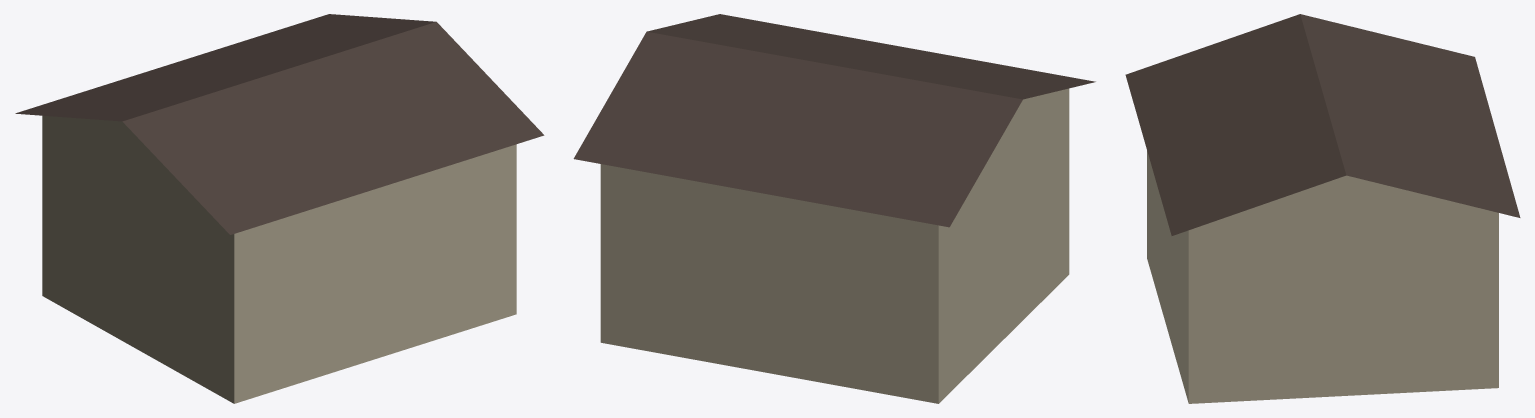
3 renders of one model, left to right at view 1: azimuth 30°, elevation 25°; view 2: azimuth 150°, elevation 25°; view 3: azimuth 270°, elevation 25°, orthographic. The views are drawn at different scales.
Visible parts, largest first — view 1: buildings; view 2: buildings; view 3: buildings.
Boxes of the visible parts, <box> form: buildings: <box>15,14,544,403</box>; buildings: <box>573,14,1095,403</box>; buildings: <box>1125,14,1520,403</box>.
Size of the model in its own units: 6.53 by 3.88 by 6.08.
